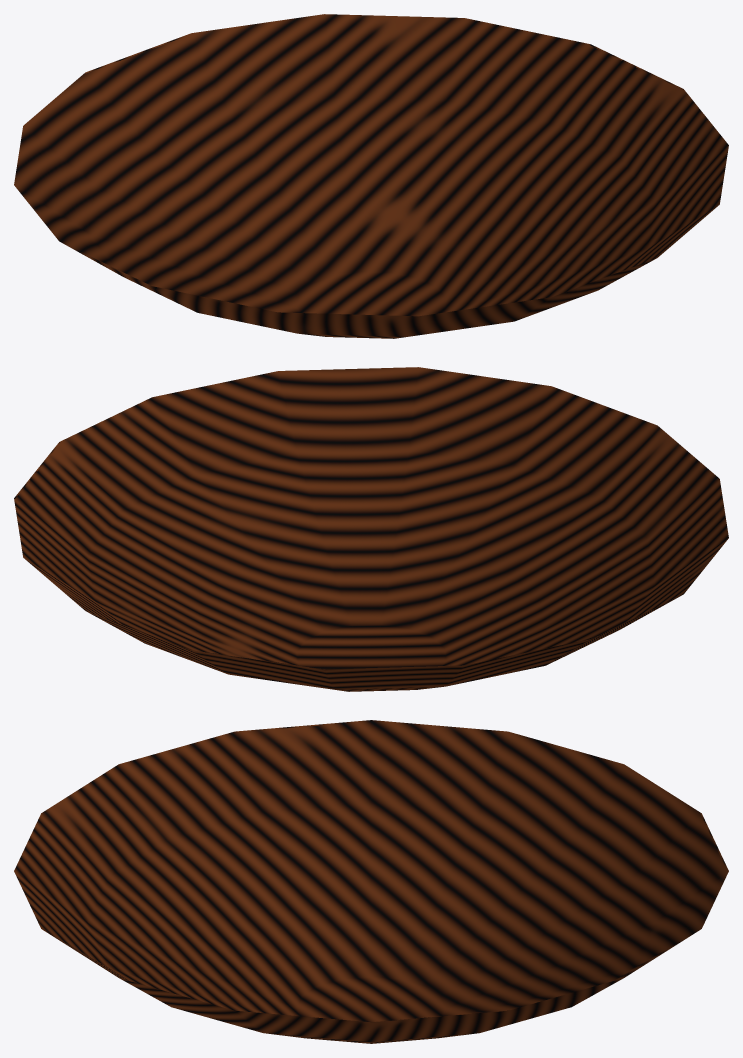
File: Basket.fbx
3 renders of one model, top to bottom at view 1: azimuth 30°, elevation 25°; view 2: azimuth 150°, elevation 25°; view 3: azimuth 270°, elevation 25°, orthographic.
Parts seen in each view (by area): view 1: Circle; view 2: Circle; view 3: Circle.
Part boxes in pixels (box(x1,y1,x2,y2)): Circle: box(14, 14, 728, 338); Circle: box(14, 367, 728, 691); Circle: box(14, 720, 728, 1043).
Bounding box in the file's own units: 340 × 71.81 × 340.
1 material, 1 textured.
